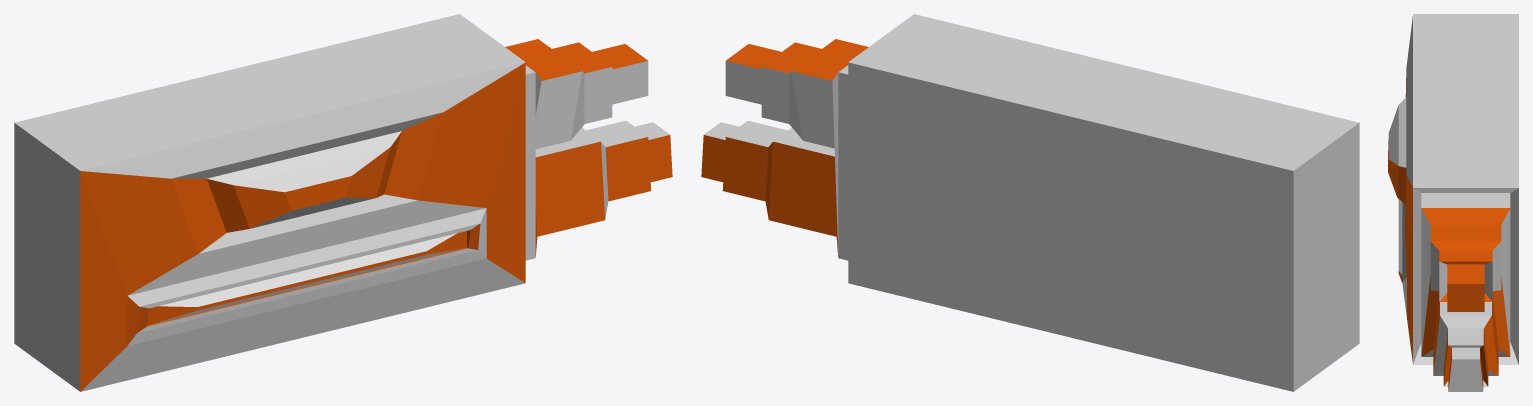
Rendered from rivv.fbx.
3 renders of one model, left to right at view 1: azimuth 30°, elevation 25°; view 2: azimuth 150°, elevation 25°; view 3: azimuth 270°, elevation 25°, orthographic. The views are drawn at different scales.
Parts seen in each view (by area): view 1: pCube1; view 2: pCube1; view 3: pCube1.
Part boxes in pixels (bbox=[...]): pCube1: bbox=[14, 14, 672, 391]; pCube1: bbox=[701, 14, 1359, 391]; pCube1: bbox=[1388, 14, 1518, 391].
Bounding box in the file's own units: 5.37 × 1.85 × 1.24.
